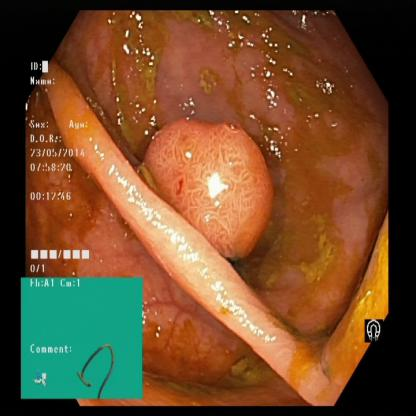Labels: (29, 60, 112, 278), (18, 280, 145, 399)
Polyps: (149, 122, 274, 254)
